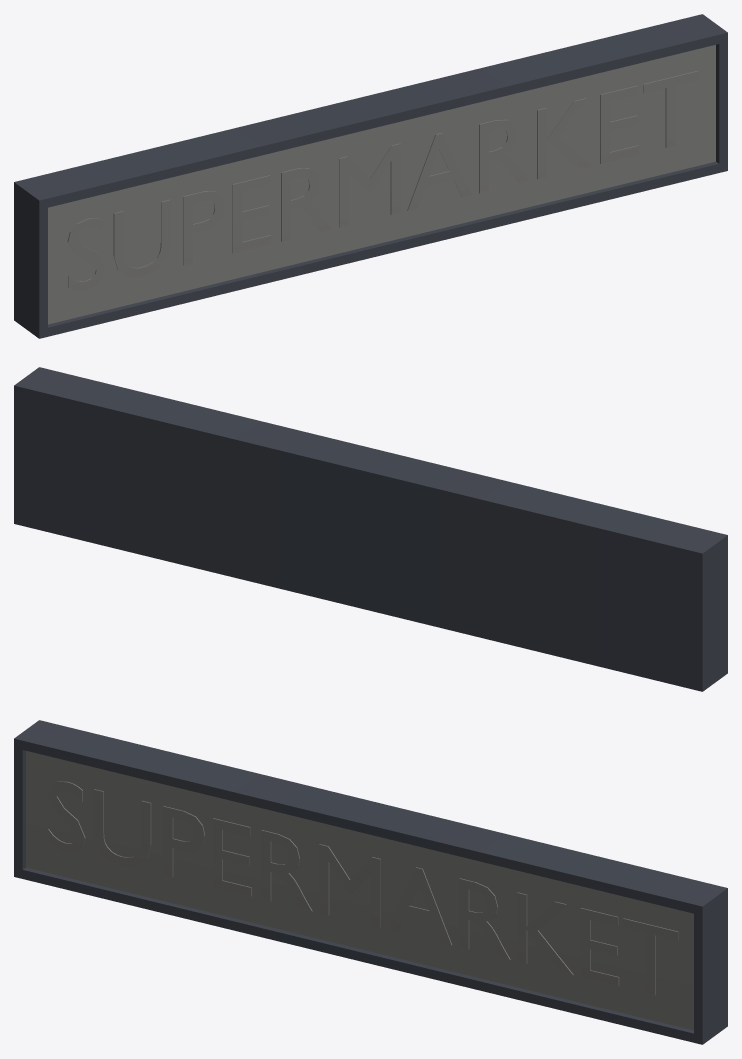
The model's file is Banner_21.fbx.
The picture shows the model from 3 angles, top to bottom: view 1: azimuth 30°, elevation 25°; view 2: azimuth 150°, elevation 25°; view 3: azimuth 330°, elevation 25°; orthographic projection.
Parts seen in each view (by area): view 1: Banner_21; view 2: Banner_21; view 3: Banner_21.
Part boxes in pixels (left/top/right/bottom): Banner_21: left=14, top=14, right=727, bottom=338; Banner_21: left=14, top=367, right=727, bottom=691; Banner_21: left=14, top=720, right=727, bottom=1044.
Bounding box in the file's own units: 4.39 × 0.8434 × 0.2801.
